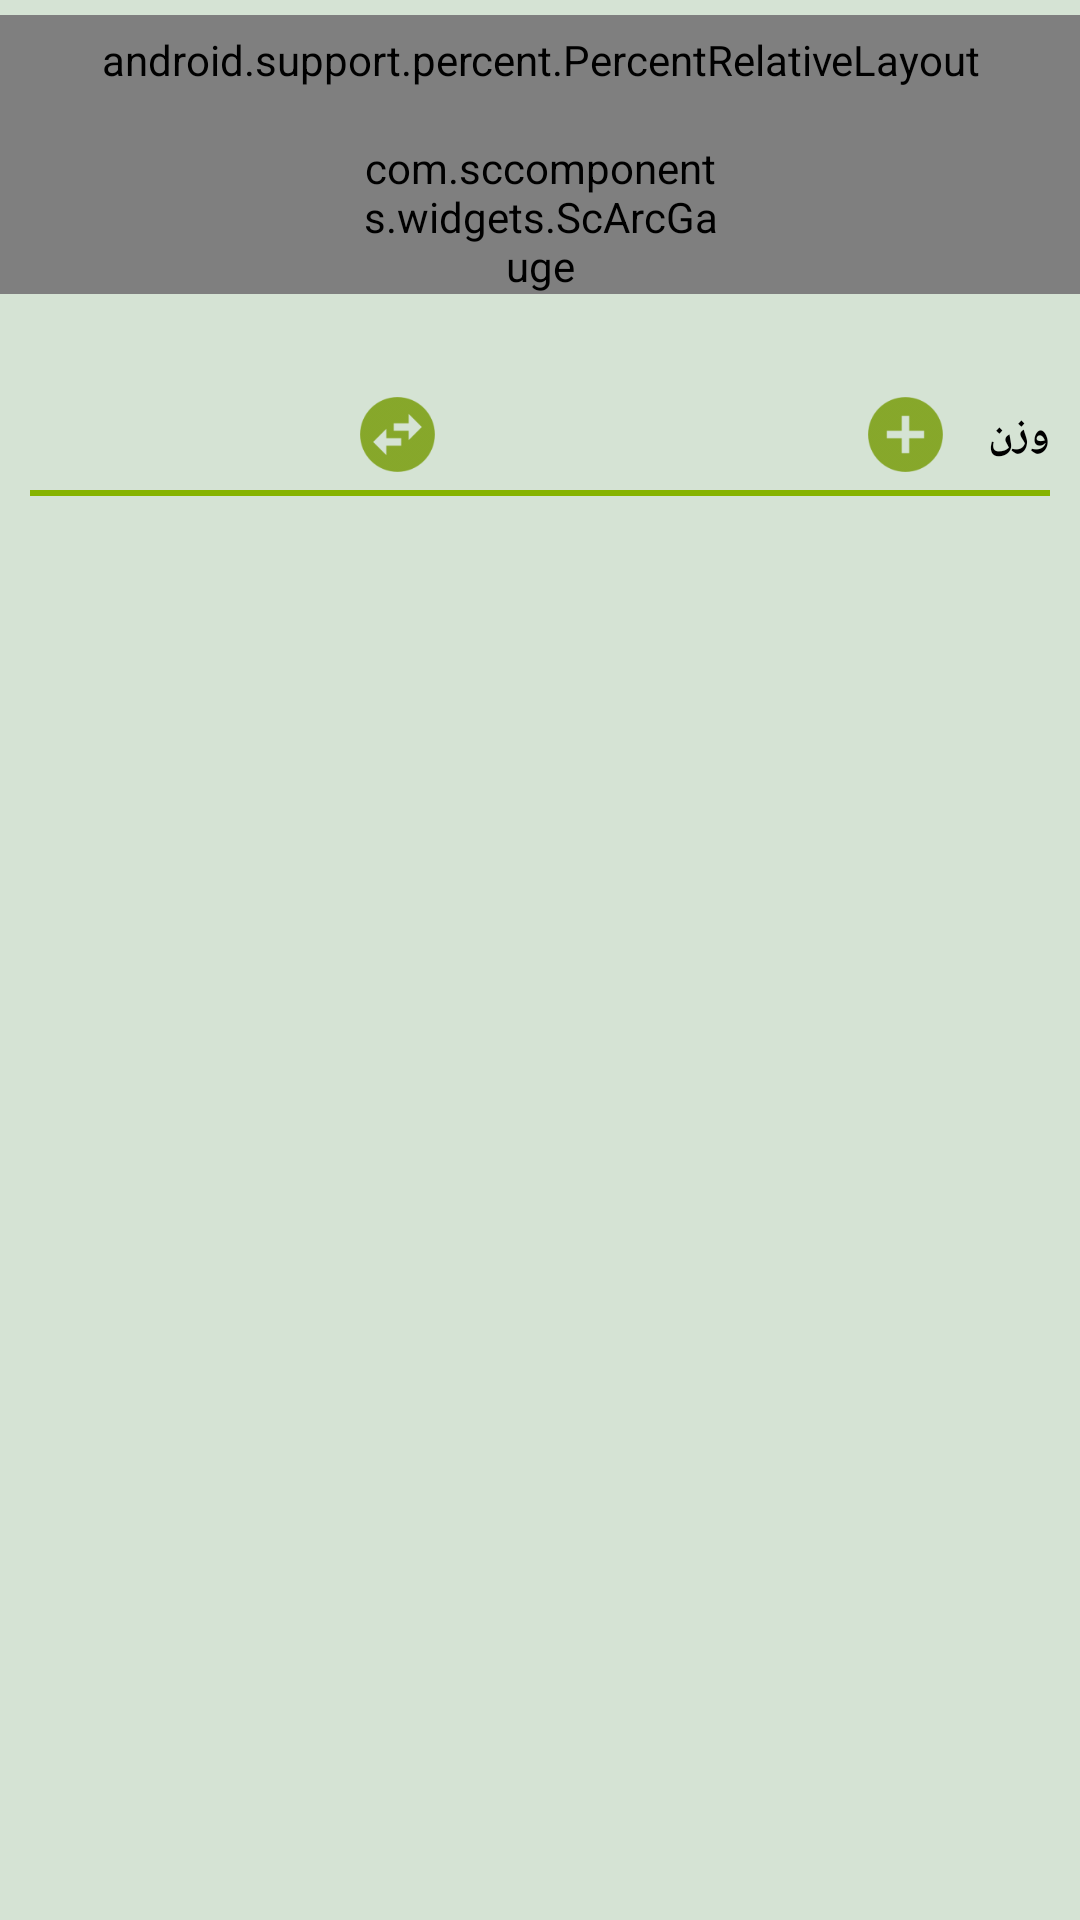

Icon click points for this 1080px x 1920px phone screenshot, format point (x, y):
add: point (905, 434)
